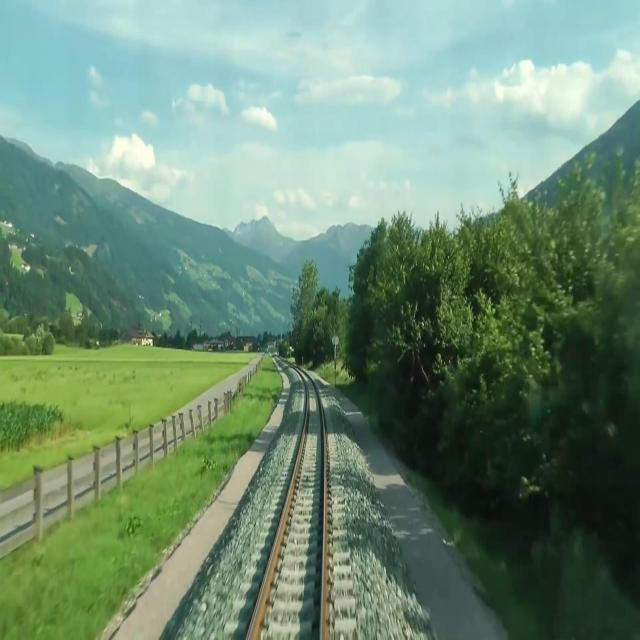rail-track: (250, 375, 322, 639)
